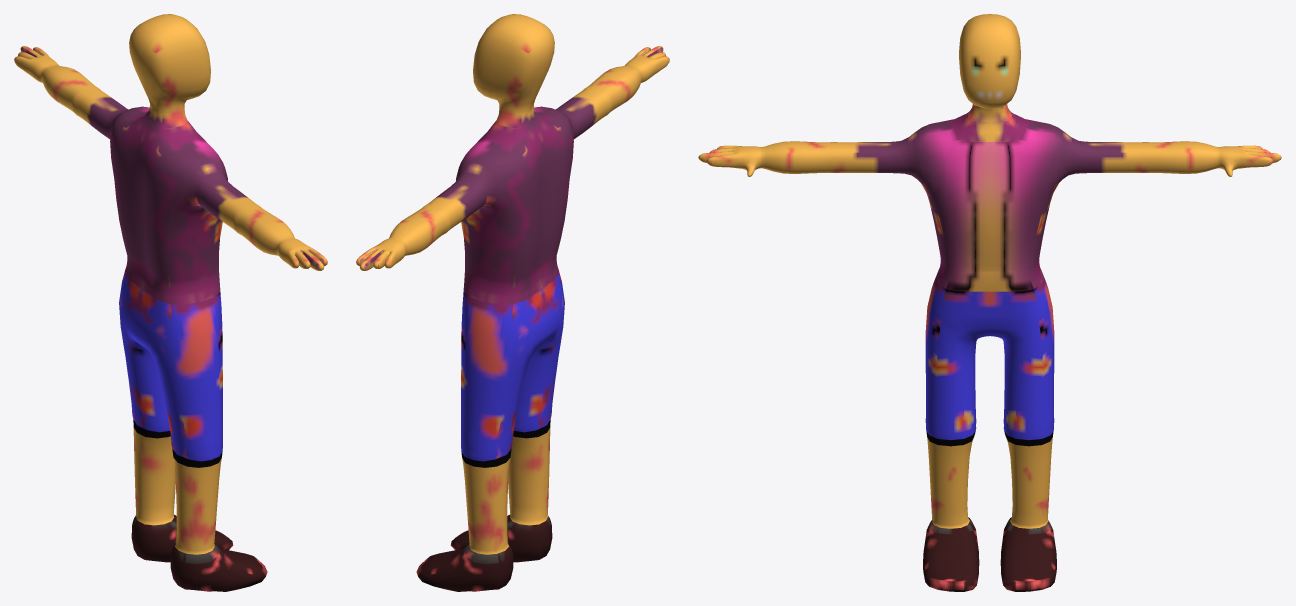
The model's file is zombie2T.fbx.
3 renders of one model, left to right at view 1: azimuth 30°, elevation 25°; view 2: azimuth 150°, elevation 25°; view 3: azimuth 270°, elevation 25°, orthographic. The views are drawn at different scales.
Visible parts, largest first — view 1: Cube.001; view 2: Cube.001; view 3: Cube.001.
Part boxes in pixels (bbox=[...]): Cube.001: bbox=[14, 14, 327, 591]; Cube.001: bbox=[356, 14, 669, 591]; Cube.001: bbox=[698, 14, 1281, 591].
Size of the model in its own units: 443 by 2119 by 2074.
